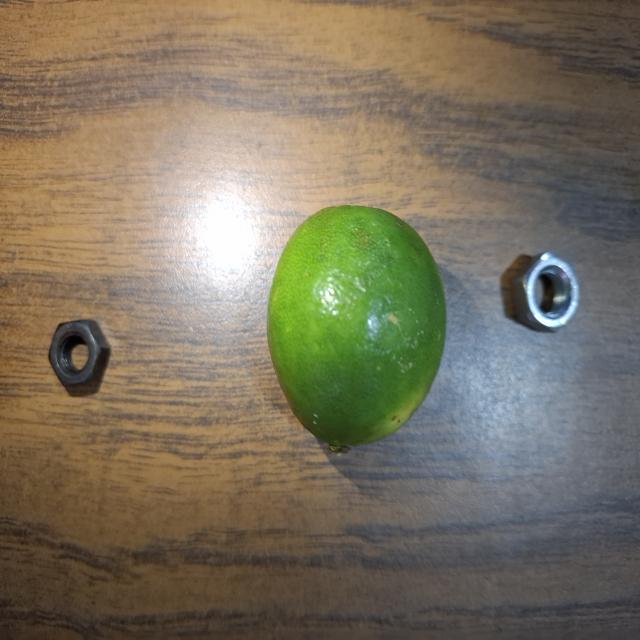limon: (260, 204, 452, 464)
milimetrico: (40, 312, 129, 399)
tuerca: (503, 238, 599, 348)
